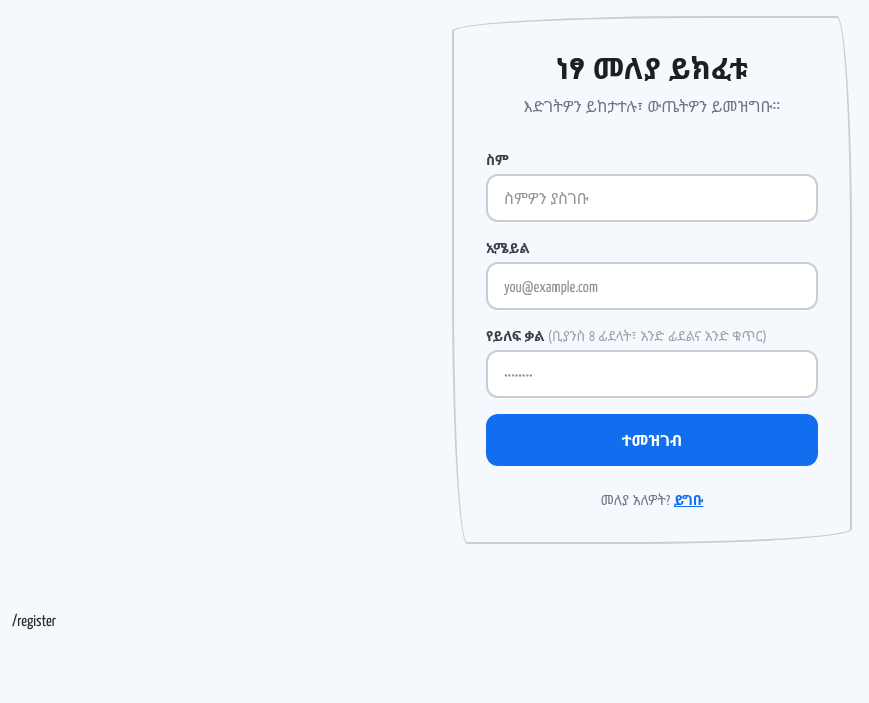
it: Register page › shows the friendly rate-limit message on 429
The width and height of the screenshot is (869, 703).
Type "Abebe Kebede" into the field labelled "ስም" at [652, 198], box 486,174 -> 818,222
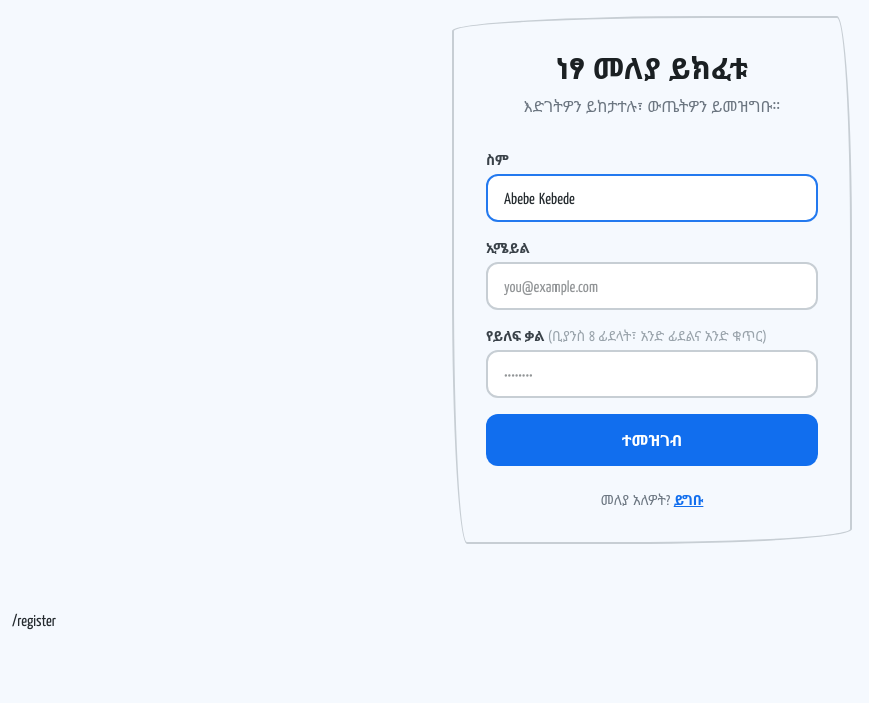
Type "a@example.com" into the field labelled "ኢሜይል" at [652, 286], box 486,262 -> 818,310
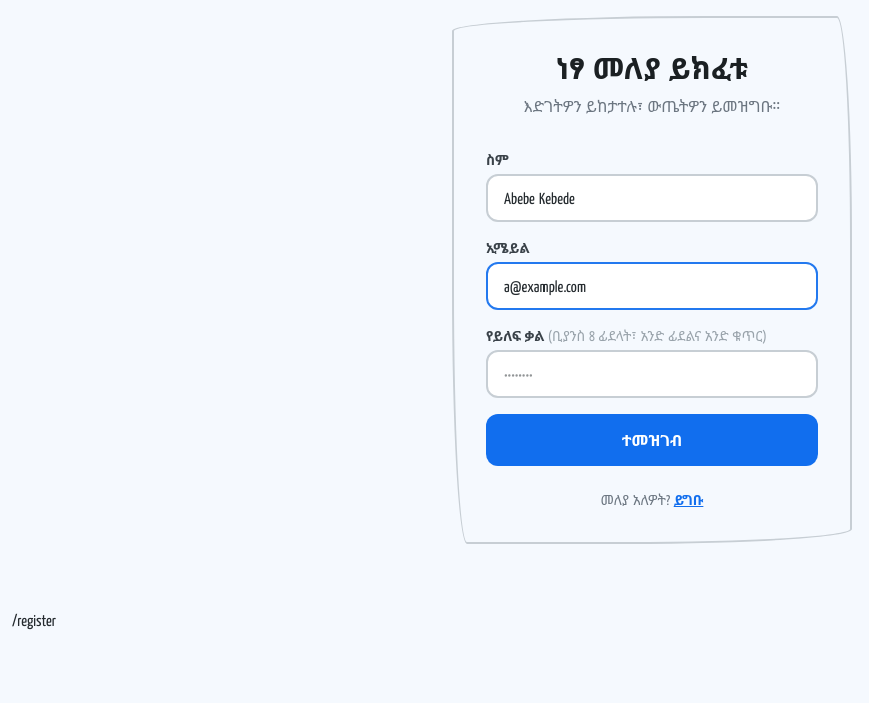
Type "passw0rd1" into the password field labelled "የይለፍ ቃል (ቢያንስ 8 ፊደላት፣ አንድ ፊደልና አንድ ቁጥር)" at [652, 374], box 486,350 -> 818,398
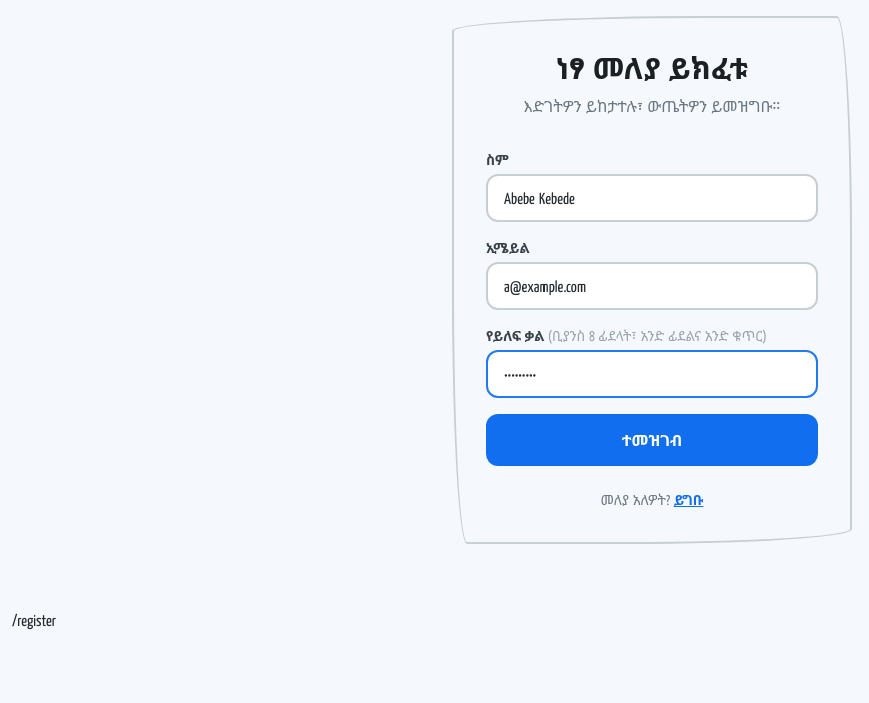
Click the button "ተመዝገብ" at [652, 440], box 486,414 -> 818,466
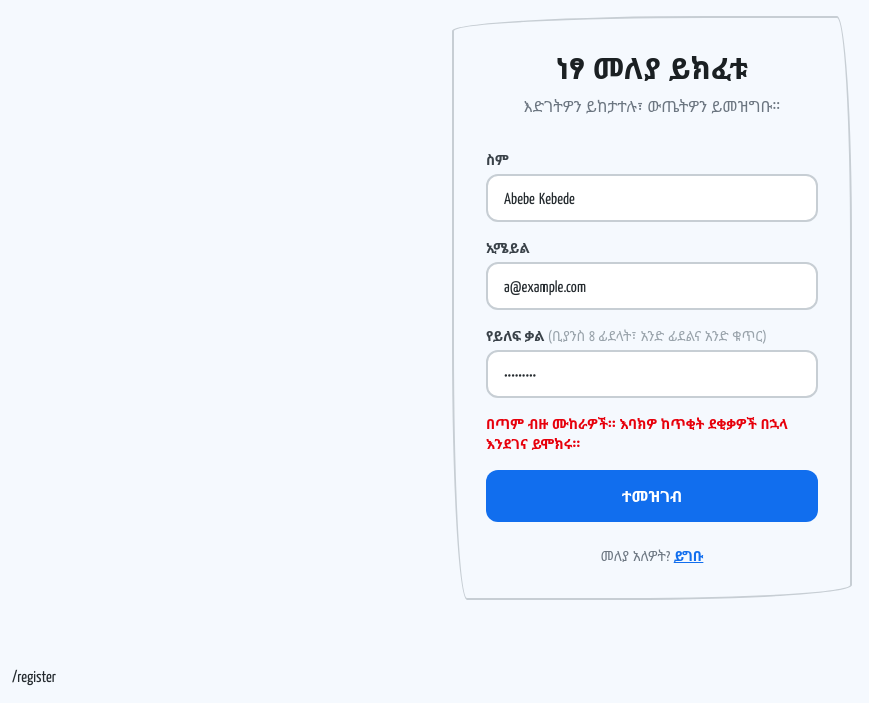
Result: the text "በጣም ብዙ ሙከራዎች። እባክዎ ከጥቂት ደቂቃዎች በኋላ እንደገና ይሞክሩ።" is shown at 486,414 -> 818,454
